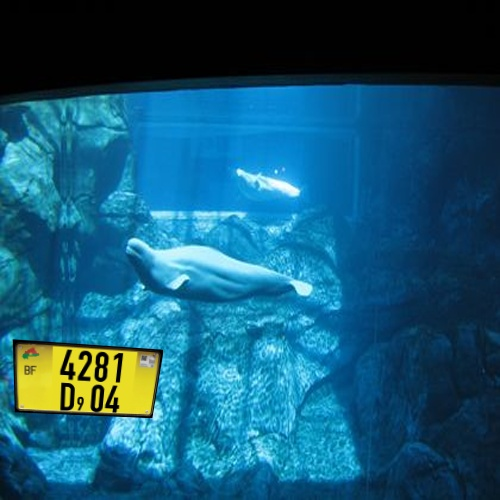plate: (1, 322, 170, 441)
